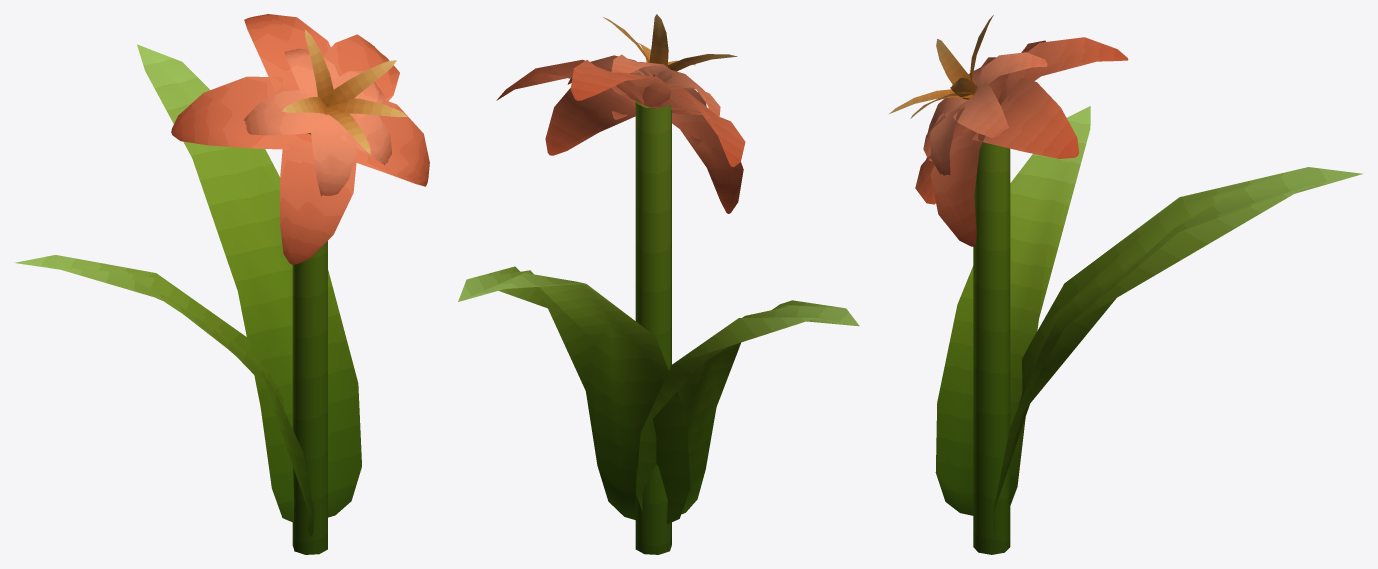
The model's file is SM_FireLily.fbx.
The picture shows the model from 3 angles, left to right: view 1: azimuth 30°, elevation 25°; view 2: azimuth 150°, elevation 25°; view 3: azimuth 270°, elevation 25°; orthographic projection. The views are drawn at different scales.
Visible parts, largest first — view 1: SM_FireLily; view 2: SM_FireLily; view 3: SM_FireLily.
Part boxes in pixels (x1=…): SM_FireLily: x1=15, y1=14, x2=429, y2=554; SM_FireLily: x1=458, y1=14, x2=859, y2=554; SM_FireLily: x1=889, y1=15, x2=1362, y2=554.
Size of the model in its own units: 78.04 by 107 by 86.79.
1 material, 1 textured.
